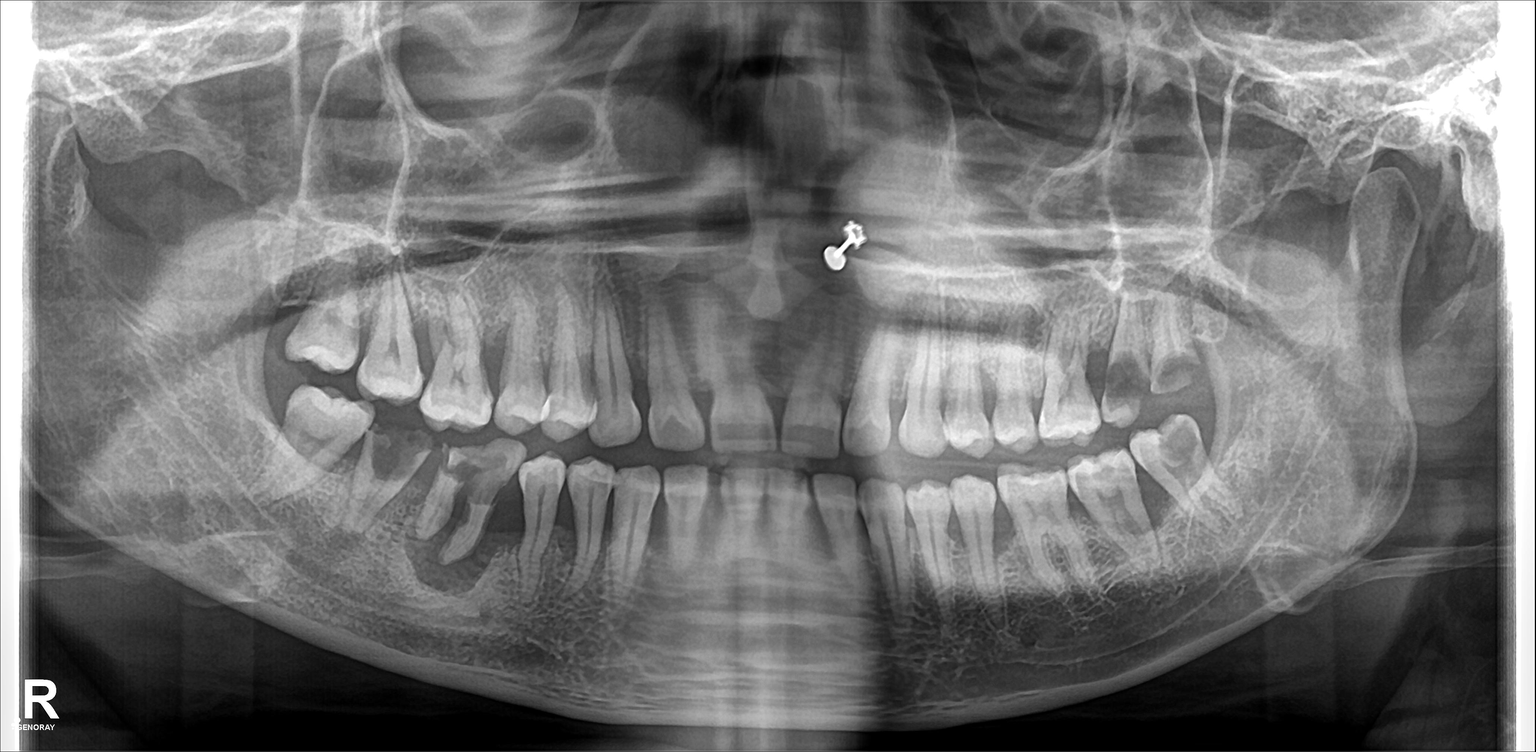Dental Caries: (365, 430, 419, 487), (1153, 344, 1202, 390), (445, 454, 483, 508), (1162, 426, 1198, 478), (1106, 359, 1138, 411)
Periapical Lesion: (426, 449, 514, 593)
Retained Root: (345, 419, 417, 556)
Tooth Fracture: (1143, 290, 1210, 396)
